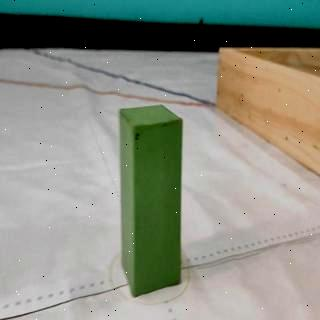greenbox: (118, 102, 184, 300)
